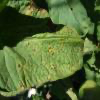Tomato Early blight leaf: (2, 1, 86, 95)
